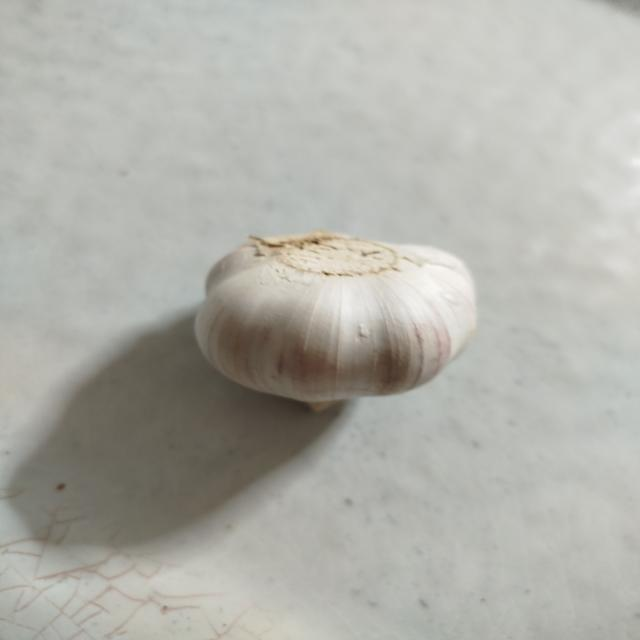garlic: (193, 230, 478, 412)
